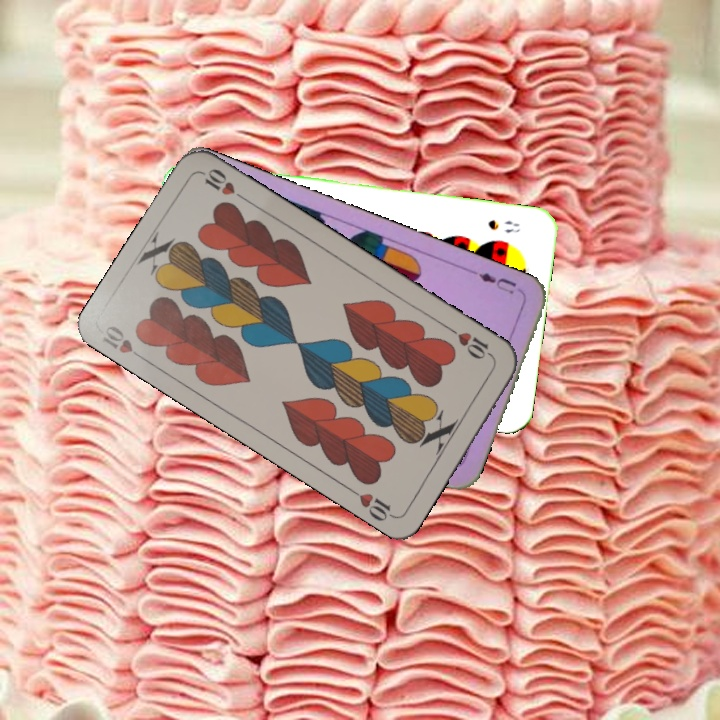EU: (467, 268, 519, 297)
H10: (97, 321, 150, 365), (444, 323, 497, 362)
S8: (484, 216, 522, 235)
